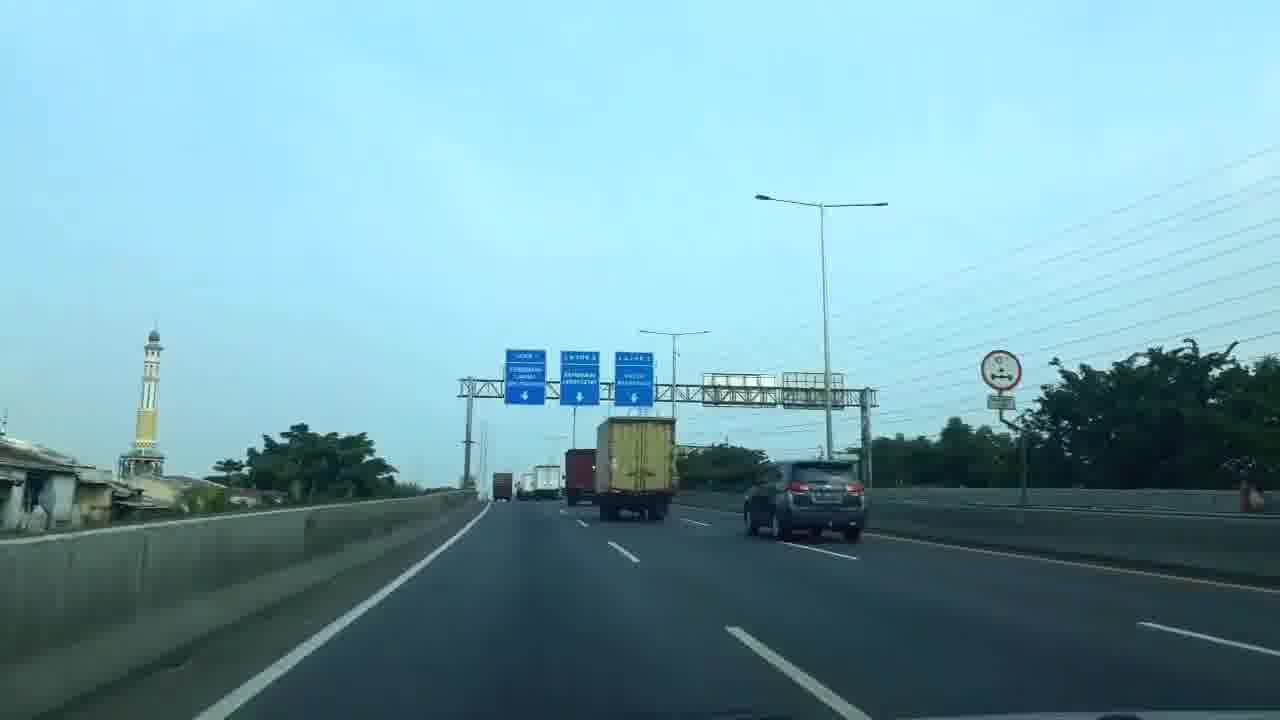plate_positive: (815, 492, 840, 502)
